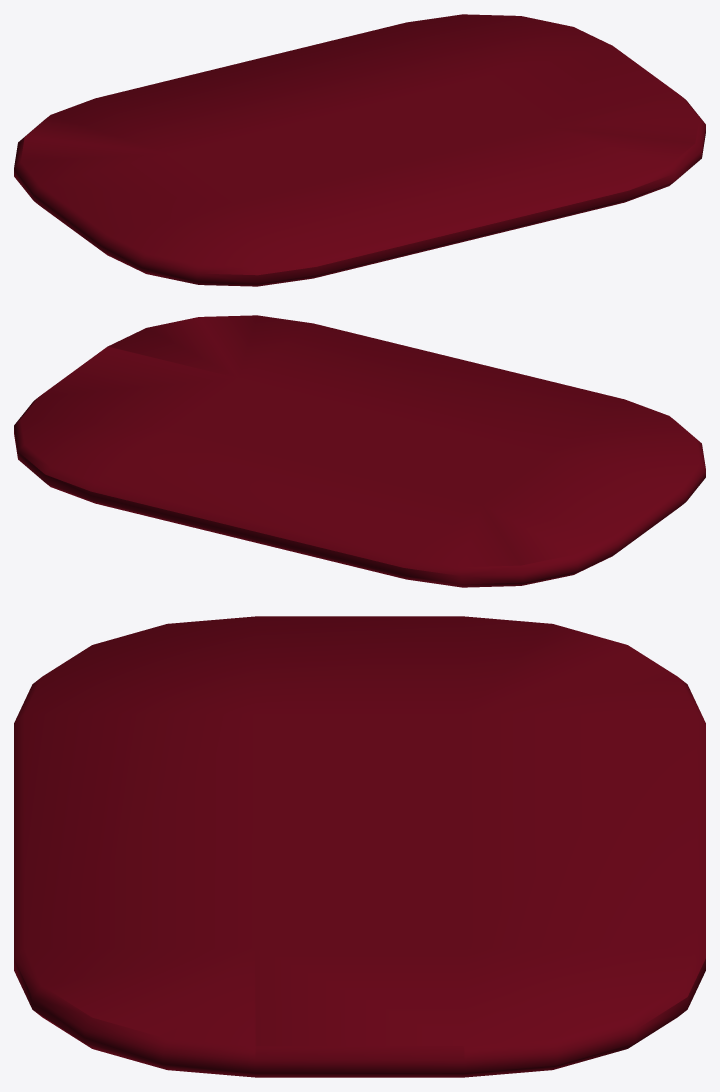
The model's file is rug.glb.
3 renders of one model, top to bottom at view 1: azimuth 30°, elevation 25°; view 2: azimuth 150°, elevation 25°; view 3: azimuth 270°, elevation 25°, orthographic. The views are drawn at different scales.
Parts seen in each view (by area): view 1: rug_oval_B; view 2: rug_oval_B; view 3: rug_oval_B.
Boxes of the visible parts, x1=… form: rug_oval_B: x1=14, y1=14, x2=705, y2=286; rug_oval_B: x1=14, y1=315, x2=705, y2=587; rug_oval_B: x1=14, y1=616, x2=705, y2=1077.
Bounding box in the file's own units: 3 × 0.1 × 2.
